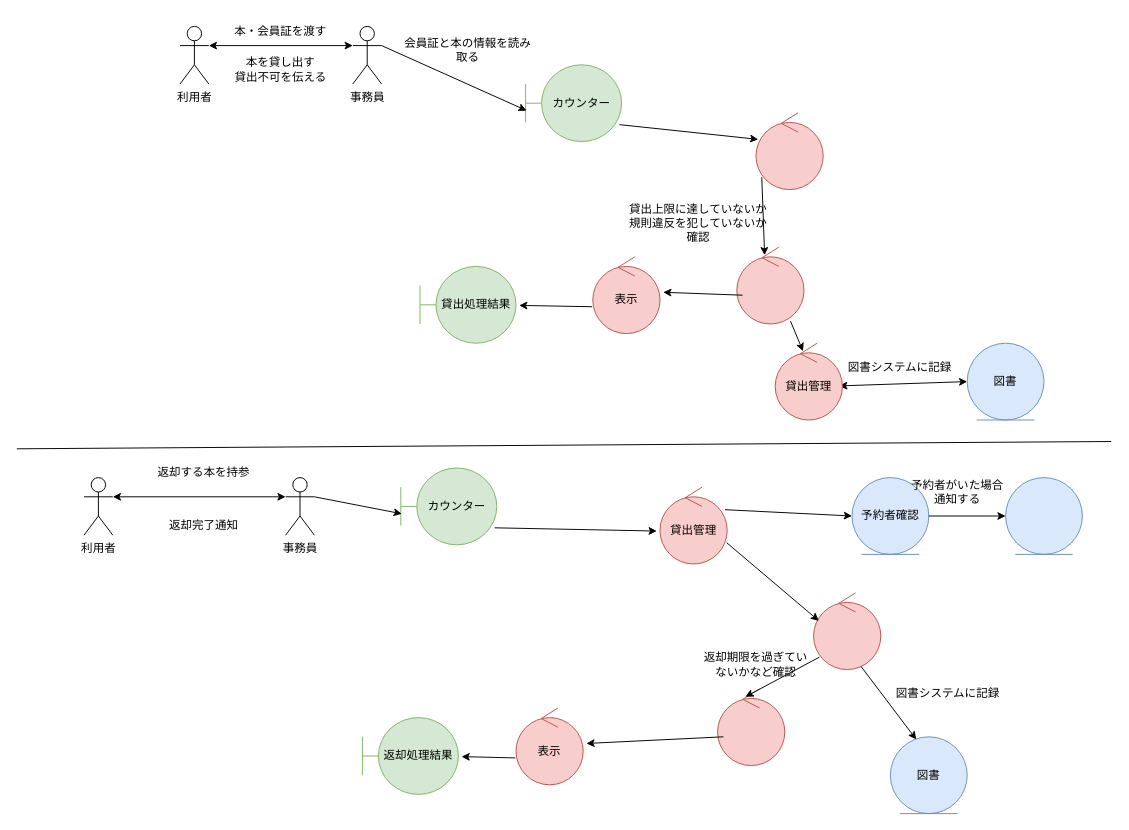
This 1129x830 diagram has some shape labels left out. The box of each missing label's shape, as (x1, y1, x2, y2) in pixels:
予約者通知: (1005, 477, 1082, 554)
貸出処理: (755, 112, 823, 190)
貸出可否確認: (736, 246, 804, 324)
返却処理: (813, 592, 881, 670)
返却処理情報: (717, 688, 785, 766)
